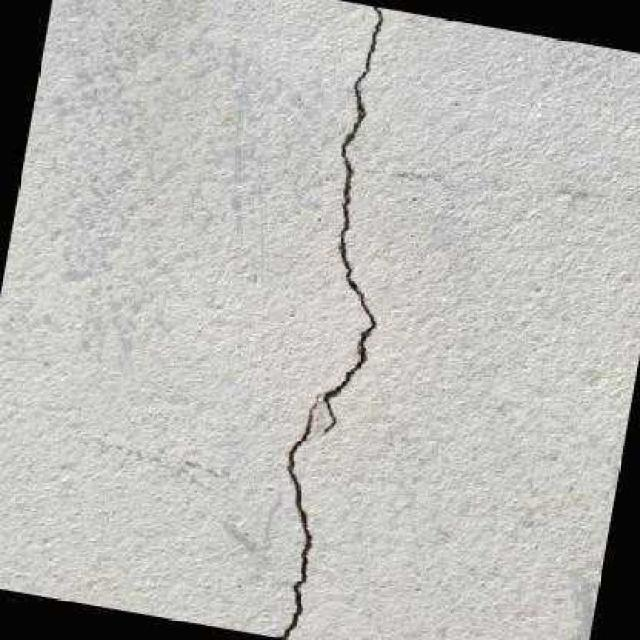D00: (322, 4, 384, 431), (275, 397, 317, 639)
